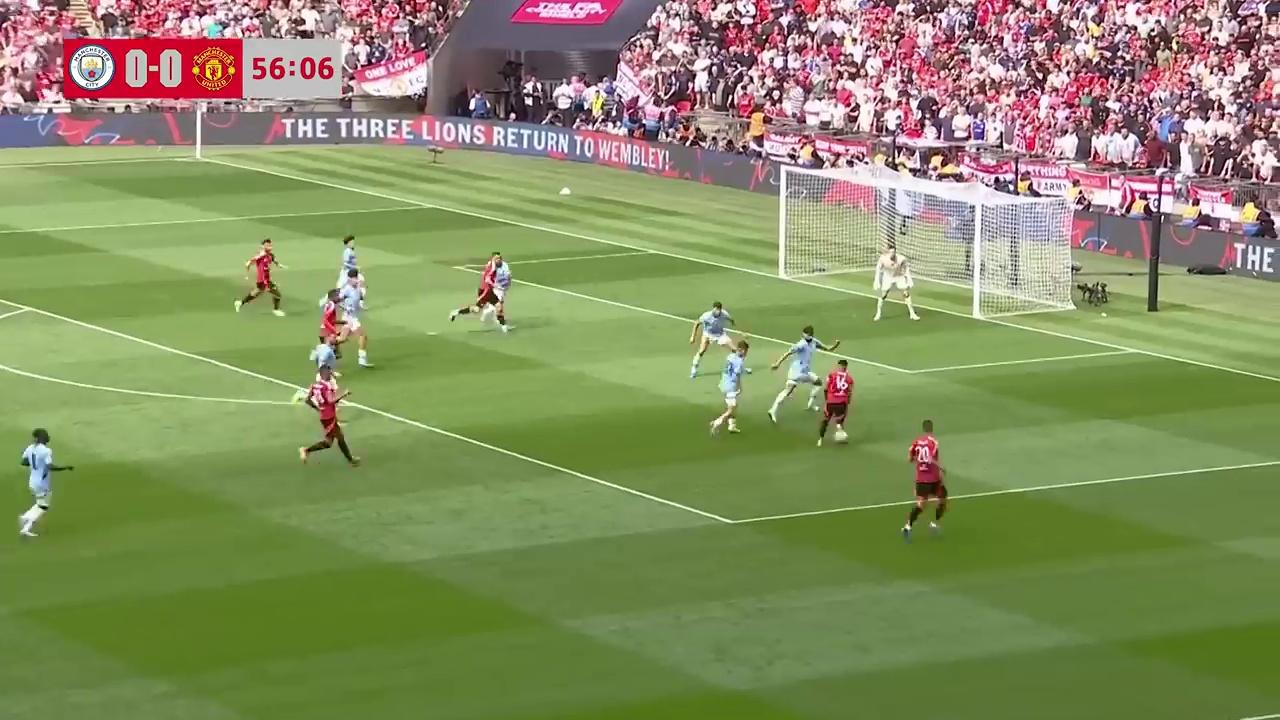ball: (834, 427, 848, 444)
player: (294, 360, 362, 467), (766, 327, 827, 428), (19, 428, 73, 539), (902, 419, 950, 541), (450, 254, 511, 333), (688, 301, 739, 380), (234, 238, 285, 315), (708, 343, 749, 436), (814, 357, 855, 447), (872, 246, 919, 322), (294, 330, 341, 405), (341, 267, 370, 366), (338, 235, 367, 306), (319, 289, 347, 360), (501, 252, 512, 333)
